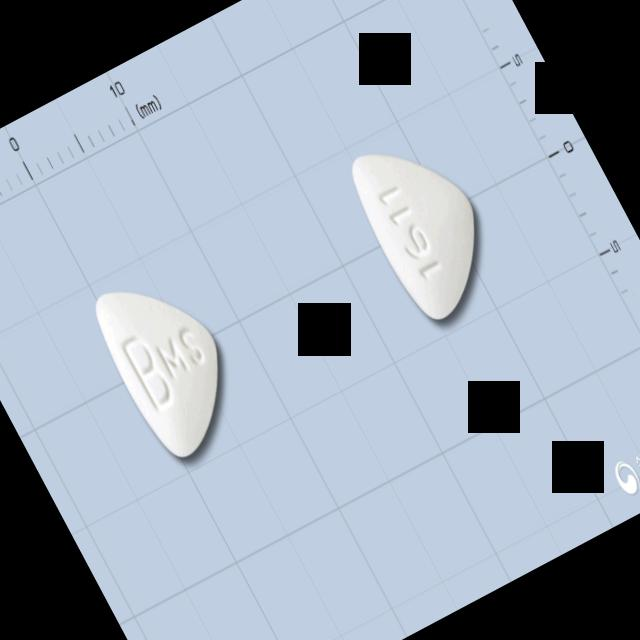Baraclude: (76, 250, 262, 472)
